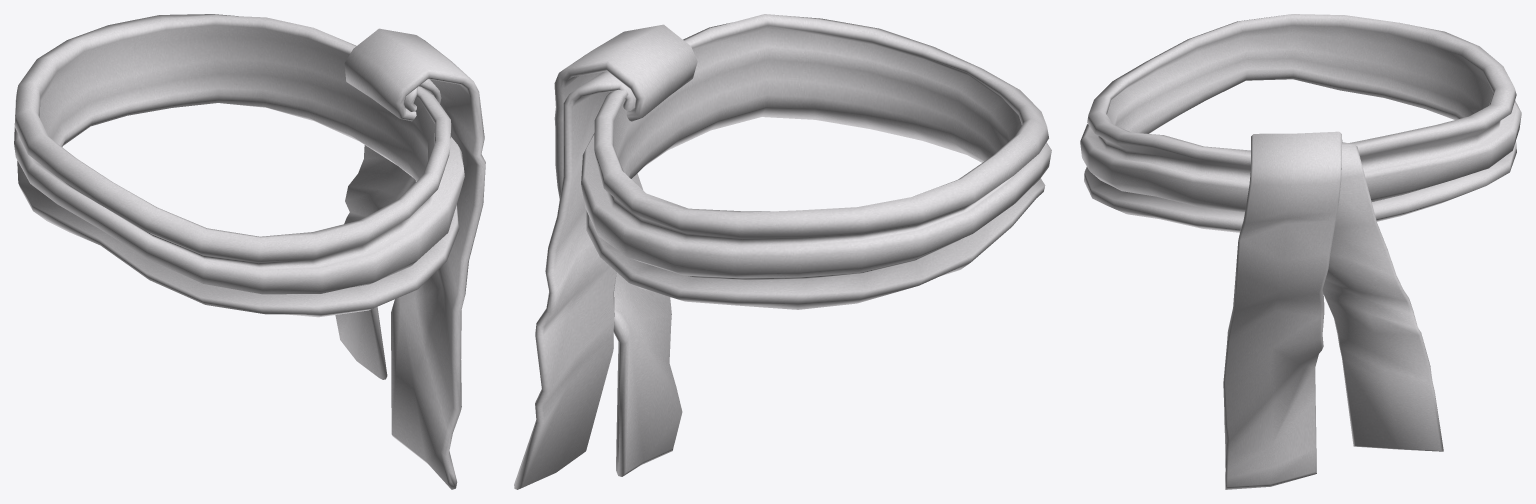
The model's file is brightsilk_sash.glb.
3 renders of one model, left to right at view 1: azimuth 30°, elevation 25°; view 2: azimuth 150°, elevation 25°; view 3: azimuth 270°, elevation 25°, orthographic. The views are drawn at different scales.
Visible parts, largest first — view 1: brightsilk_sash; view 2: brightsilk_sash; view 3: brightsilk_sash.
Boxes of the visible parts, x1,y1,x2,y2 form: brightsilk_sash: [14, 14, 485, 489]; brightsilk_sash: [514, 14, 1051, 489]; brightsilk_sash: [1080, 14, 1521, 489].
Bounding box in the file's own units: 0.2372 × 0.23 × 0.2596.
1 material, 1 textured.
